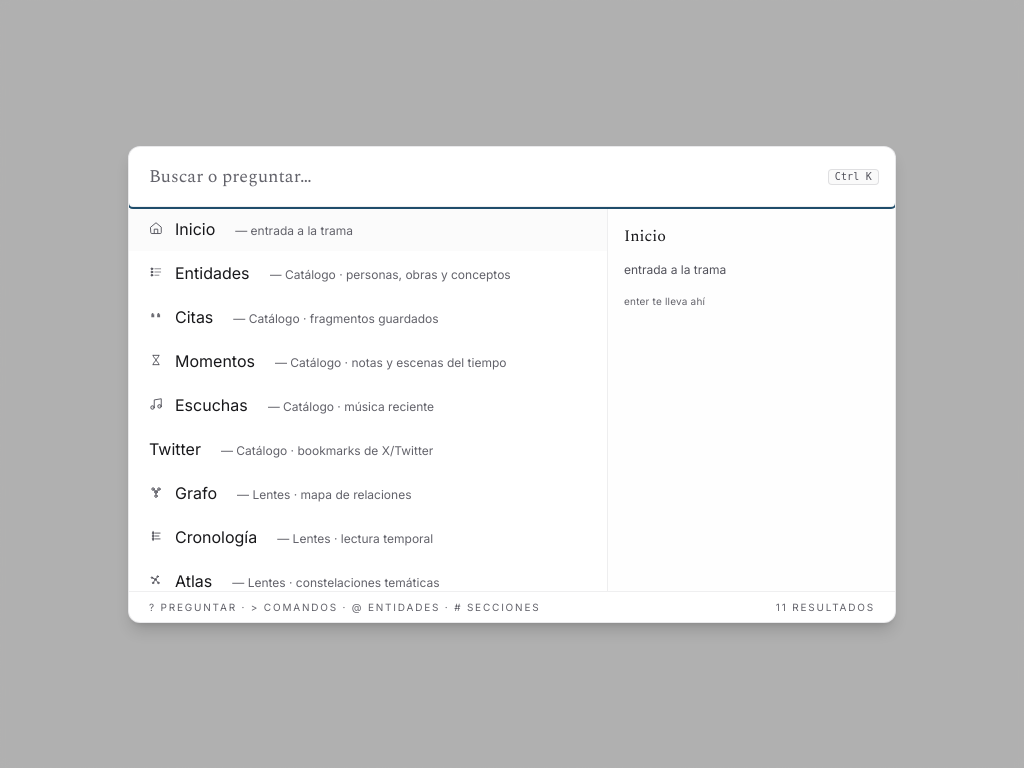
Test: <CommandPalette /> › merges server results (momento + crónica + chat) for queries ≥2
This screenshot has width=1024, height=768.
In the field with placeholder "Buscar o preguntar…": (512, 176) [129,146,895,206], type "mar"
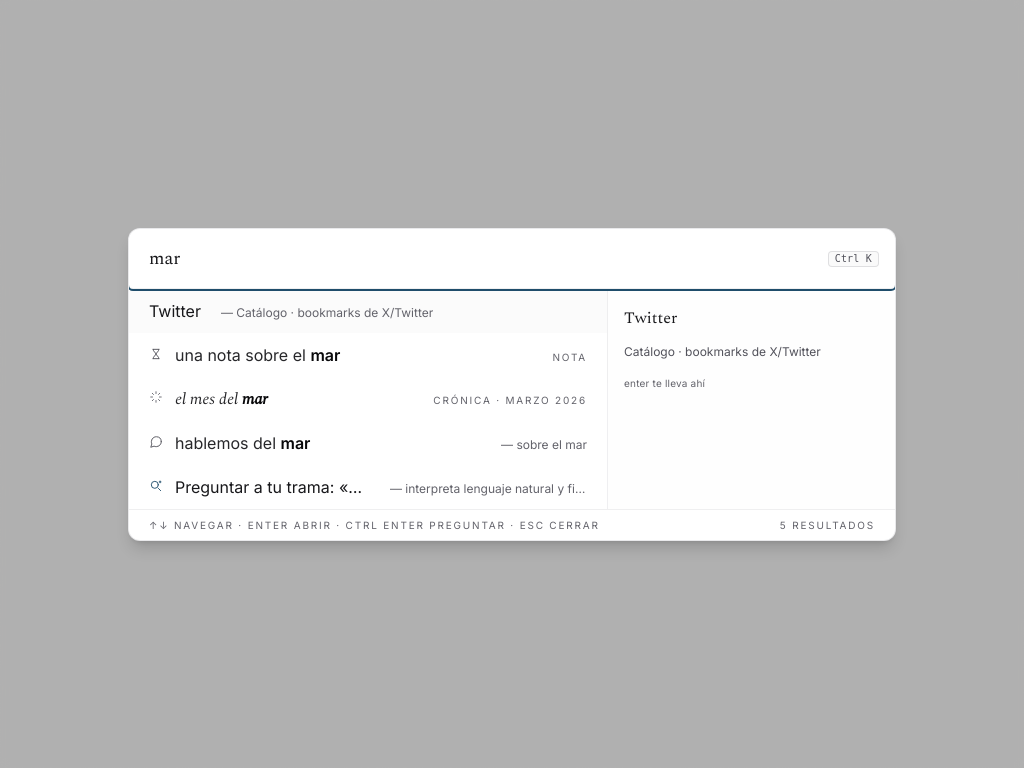
Now the list shows "una nota sobre el mar", box [129,288,607,508]
Now the list shows "el mes del mar", box [129,288,607,508]
Now the list shows "hablemos del mar", box [129,288,607,508]
